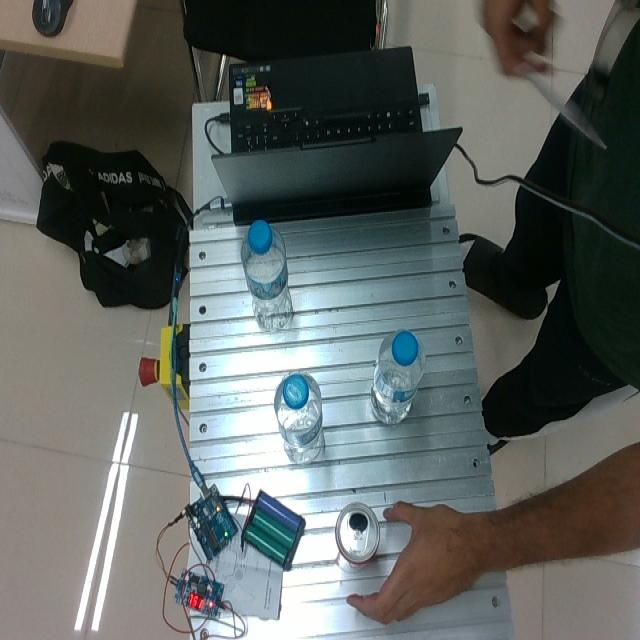coca: (334, 501, 380, 568)
lavie: (241, 219, 292, 333), (370, 330, 424, 426), (274, 371, 323, 464)
